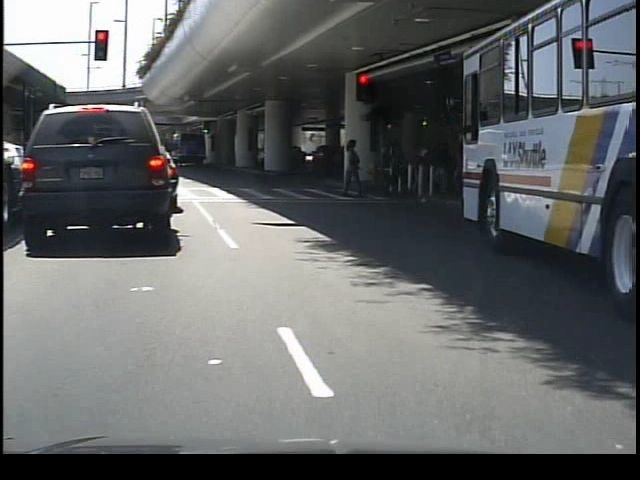person: (336, 136, 368, 199)
